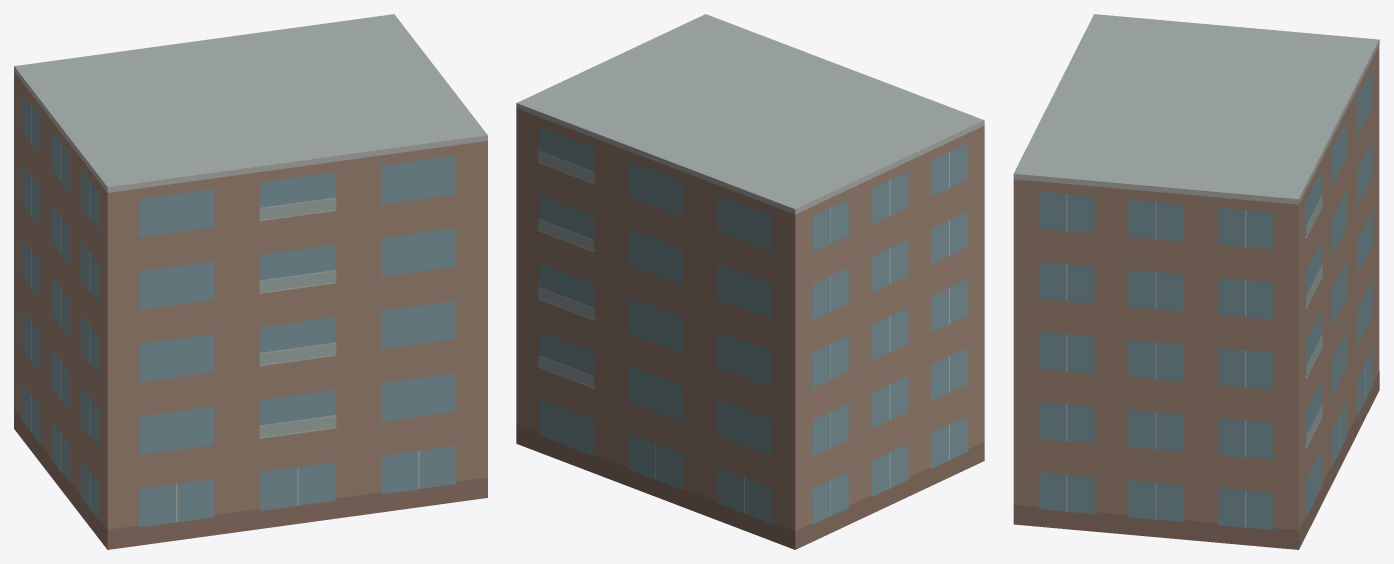
File: survey-upis-32589430.glb
3 renders of one model, left to right at view 1: azimuth 30°, elevation 25°; view 2: azimuth 150°, elevation 25°; view 3: azimuth 270°, elevation 25°, orthographic. The views are drawn at different scales.
Parts seen in each view (by area): view 1: survey-upis-32589430.tmp; view 2: survey-upis-32589430.tmp; view 3: survey-upis-32589430.tmp.
Part boxes in pixels (x1,y1,x2,y2): survey-upis-32589430.tmp: [14, 14, 487, 549]; survey-upis-32589430.tmp: [516, 14, 984, 549]; survey-upis-32589430.tmp: [1013, 14, 1379, 549].
Size of the model in its own units: 17.8 by 15.7 by 14.86.
